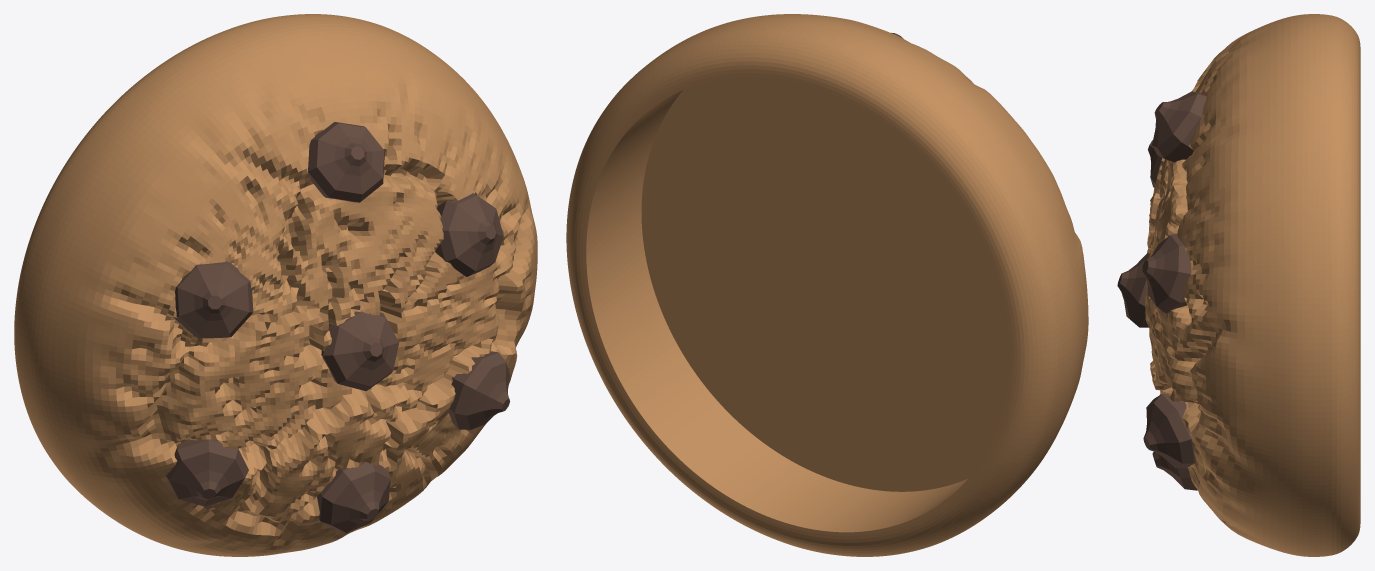
The model's file is cookie.all.glb.
The picture shows the model from 3 angles, left to right: view 1: azimuth 30°, elevation 25°; view 2: azimuth 150°, elevation 25°; view 3: azimuth 270°, elevation 25°; orthographic projection. The views are drawn at different scales.
Visible parts, largest first — view 1: Circle.532, Cube.3250; view 2: Circle.532; view 3: Circle.532, Cube.3250.
Part boxes in pixels (box(x1,y1,x2,y2)): Circle.532: box(14, 14, 537, 556); Cube.3250: box(166, 122, 510, 532); Circle.532: box(566, 14, 1088, 556); Circle.532: box(1145, 14, 1360, 556); Cube.3250: box(1117, 91, 1206, 490).
Size of the model in its own units: 14.14 by 14.2 by 6.33.
